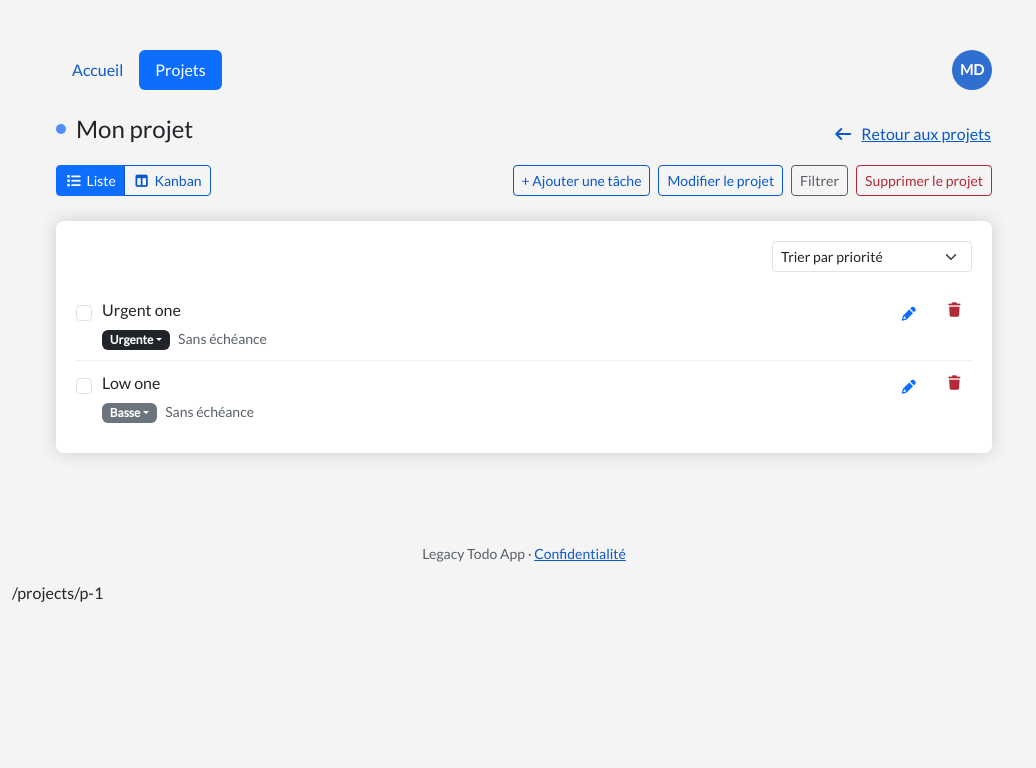
kanban view › tasks are grouped in one labelled column per priority
Check: the text "Low one" is shown, box [102, 373, 160, 392]
What coordinates should you click on to do the following:
click the button "Kanban"
I would click on:
 (167, 180)
Its box is [124, 165, 210, 196].
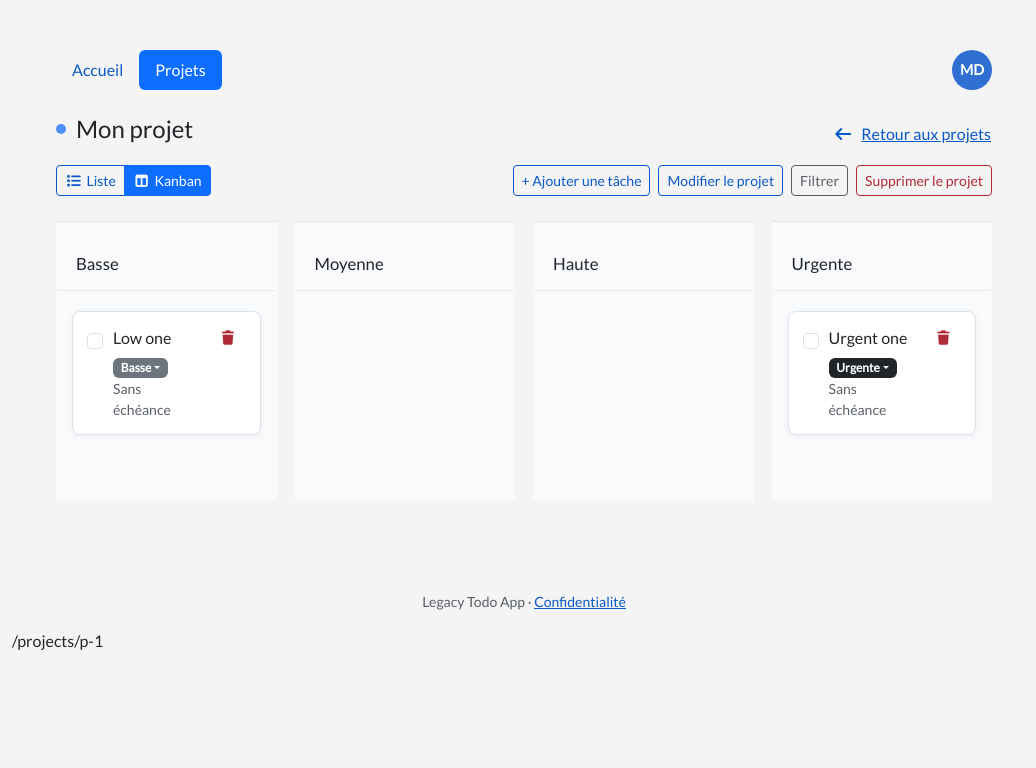
Check: the text "Urgent one" is shown, box [828, 326, 916, 350]
